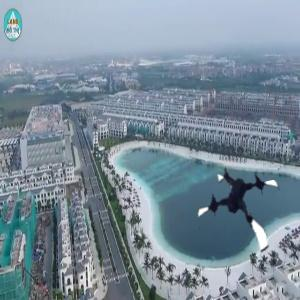drone: (194, 163, 290, 259)
